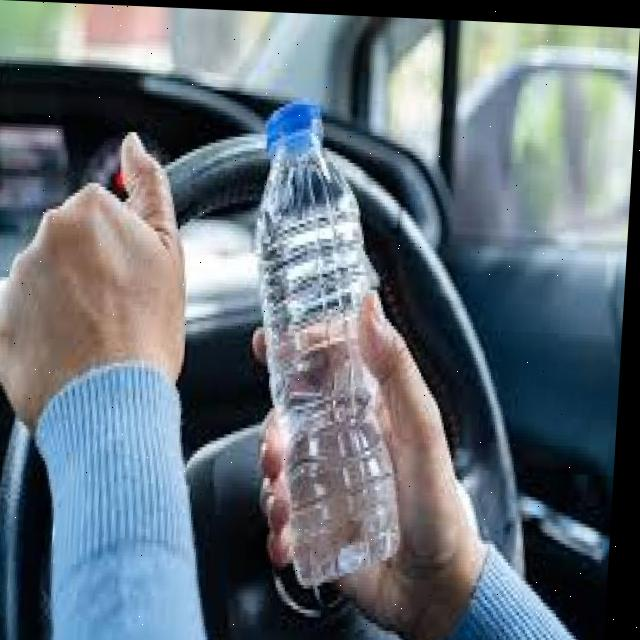bottle: (228, 105, 443, 596)
